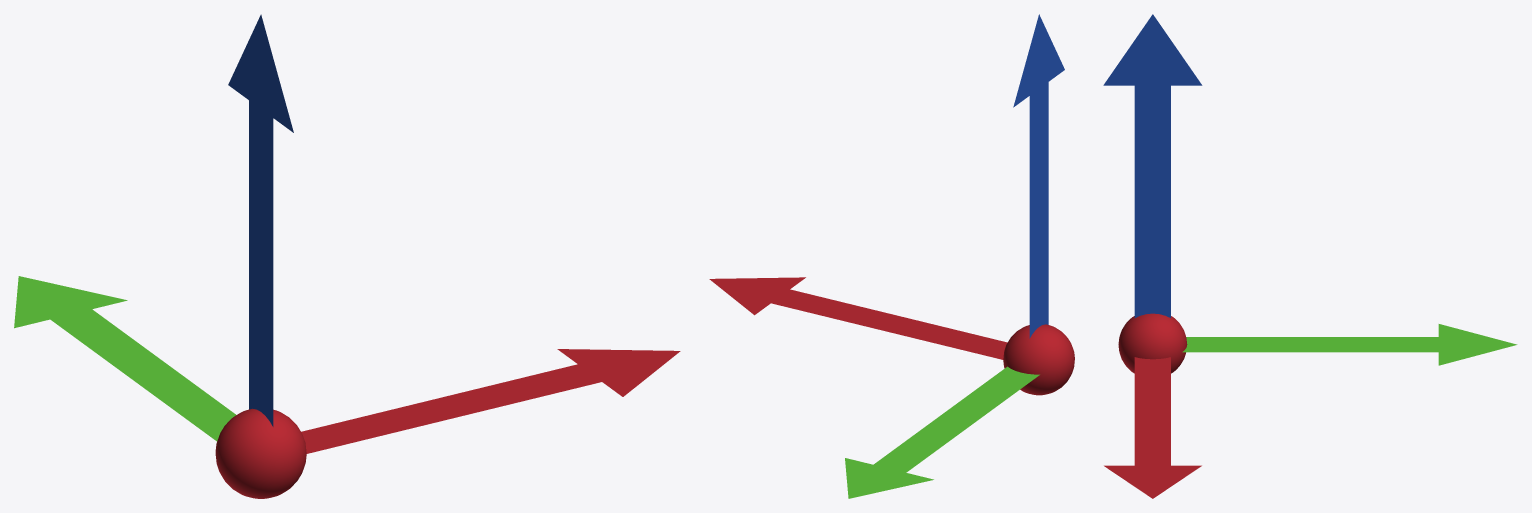
File: axisTest.obj
3 views of the same model, side by side, from view 1: azimuth 30°, elevation 25°; view 2: azimuth 150°, elevation 25°; view 3: azimuth 270°, elevation 25° (orthographic). The views are drawn at different scales.
Parts seen in each view (by area): view 1: Plane.002, Plane, Plane.001, Sphere; view 2: Plane.002, Plane.001, Plane, Sphere; view 3: Plane.002, Plane.001, Plane, Sphere.
Boxes of the visible parts, x1,y1,x2,y2 form: Plane.002: [228, 14, 293, 426]; Plane: [301, 349, 680, 453]; Plane.001: [14, 276, 236, 441]; Sphere: [215, 408, 306, 498]; Plane.002: [1013, 14, 1064, 338]; Plane.001: [845, 366, 1039, 498]; Plane: [709, 277, 1007, 359]; Sphere: [1003, 324, 1074, 395]; Plane.002: [1103, 14, 1202, 317]; Plane.001: [1182, 324, 1517, 365]; Plane: [1104, 357, 1201, 498]; Sphere: [1118, 313, 1187, 373].
Bounding box in the file's own units: 2.27 × 2.19 × 2.27.
